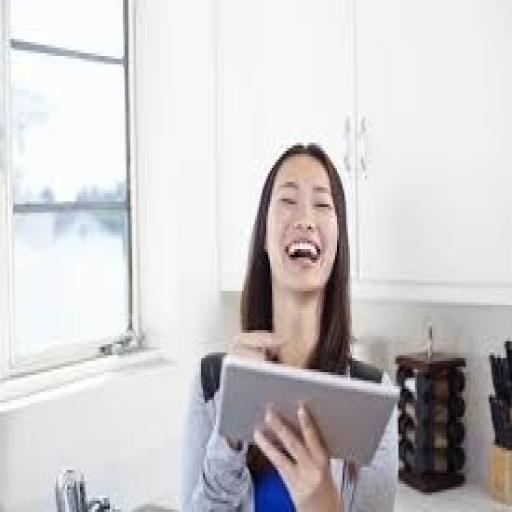laughing: (175, 129, 404, 506)
